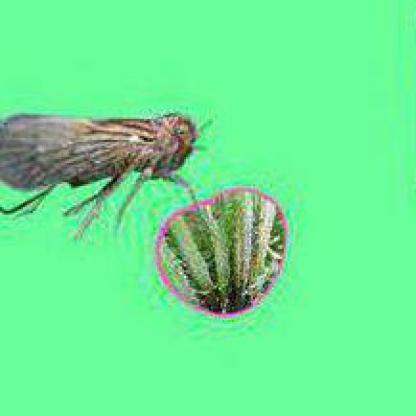brown-planthopper: (0, 113, 199, 213)
